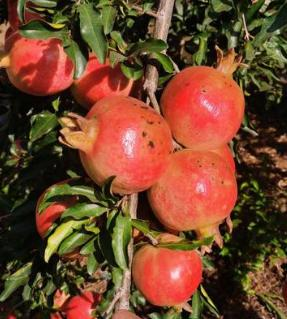pomegranate_A: (131, 232, 203, 307), (1, 28, 75, 96), (70, 46, 135, 111)
pomegranate_B: (57, 94, 174, 196), (147, 147, 238, 255), (158, 44, 245, 150)
